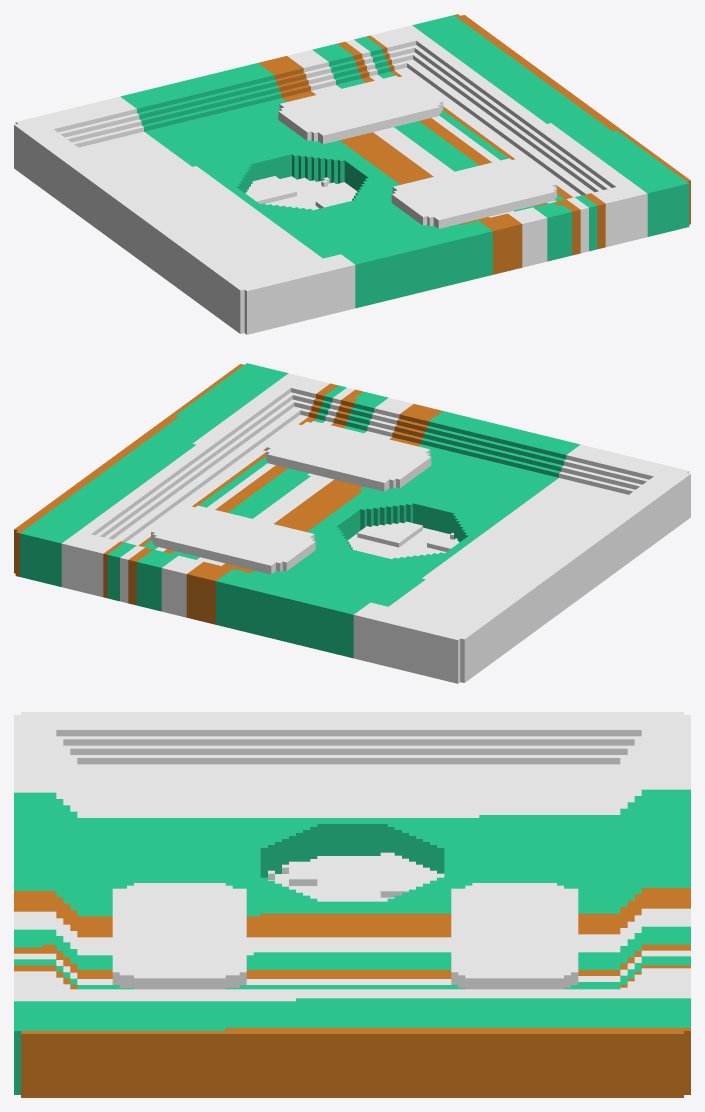
Rendered from turca.gltf.
The picture shows the model from 3 angles, top to bottom: view 1: azimuth 30°, elevation 25°; view 2: azimuth 150°, elevation 25°; view 3: azimuth 270°, elevation 25°; orthographic projection. The views are drawn at different scales.
Parts seen in each view (by area): view 1: Layer.1, Layer.2; view 2: Layer.1, Layer.2; view 3: Layer.1, Layer.2.
Part boxes in pixels (x1=…): Layer.1: x1=14, y1=14, x2=690, y2=334; Layer.2: x1=245, y1=176, x2=357, y2=210; Layer.1: x1=14, y1=363, x2=690, y2=683; Layer.2: x1=347, y1=521, x2=459, y2=559; Layer.1: x1=14, y1=712, x2=690, y2=1097; Layer.2: x1=268, y1=852, x2=444, y2=901.
Size of the model in its own units: 108 by 10 by 96.
Materials: 1 (1 with a texture image).
